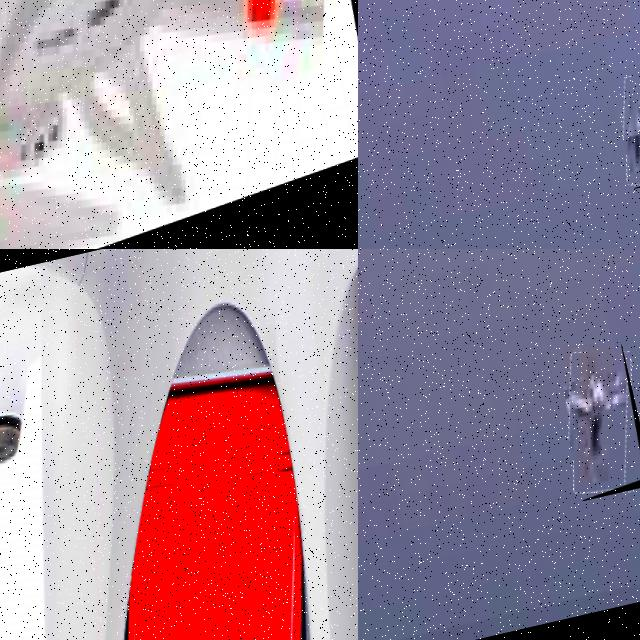0: (550, 343, 640, 500), (609, 72, 640, 188)
drone: (0, 249, 358, 640), (0, 0, 358, 249)
